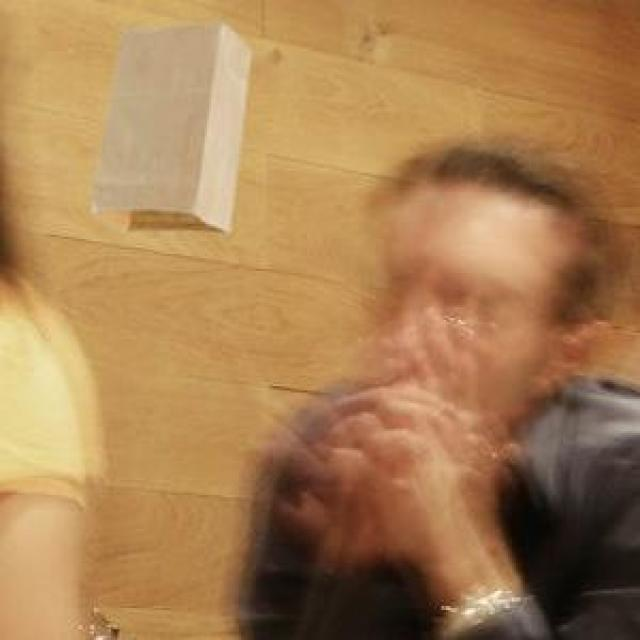paper: (90, 19, 248, 230)
